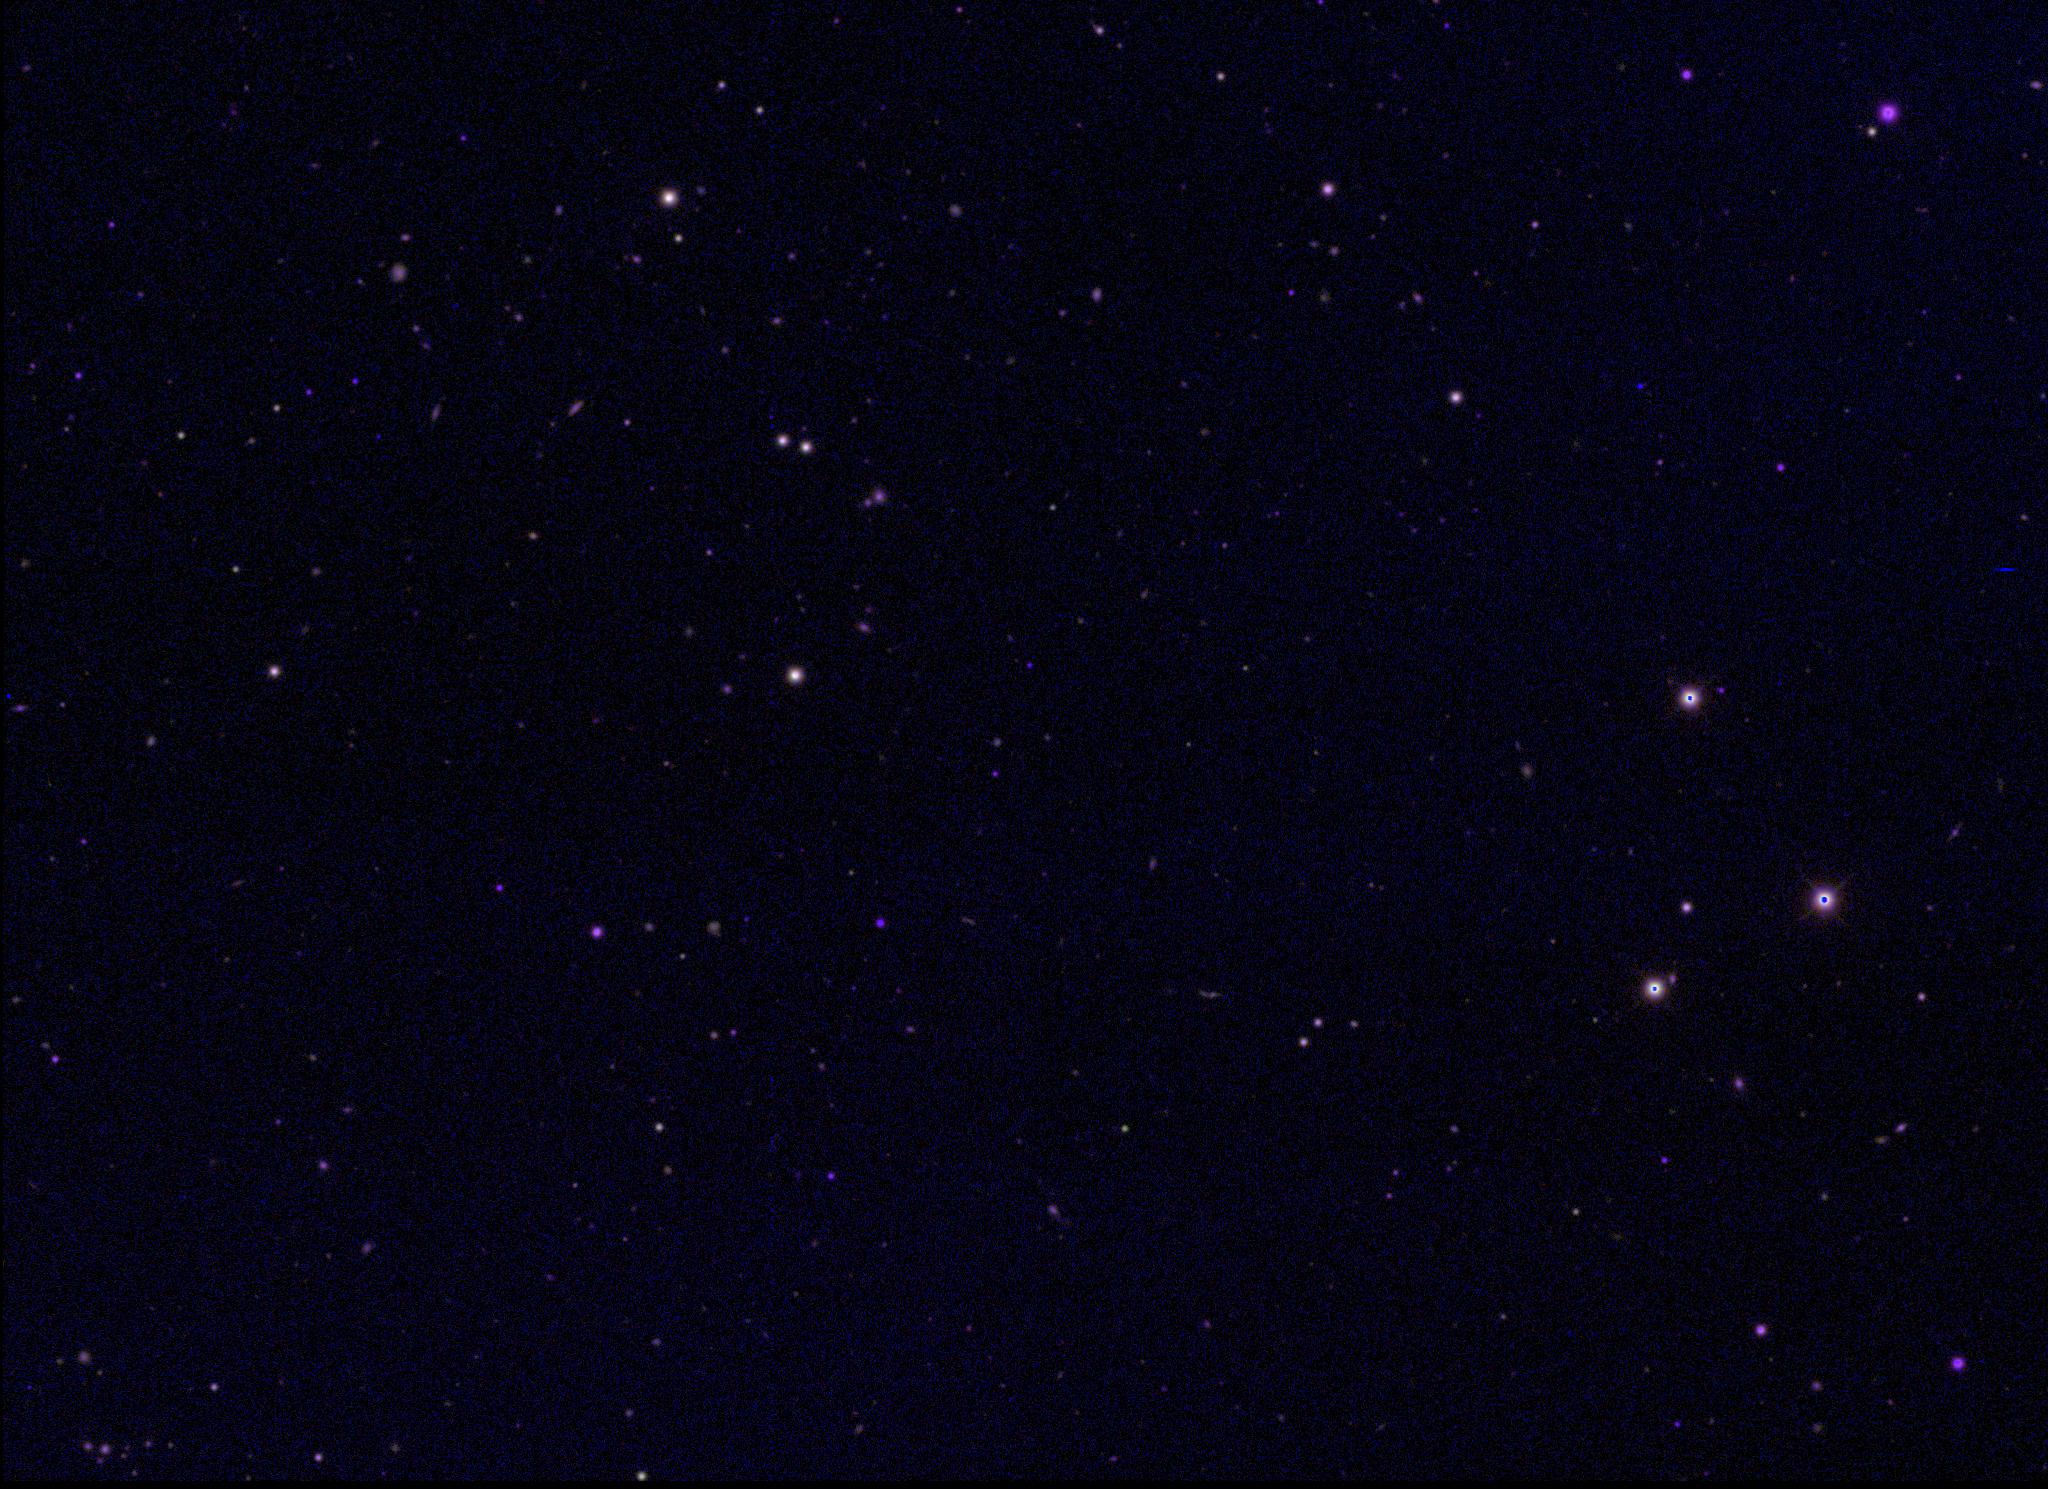L: (1633, 379, 1647, 393)
